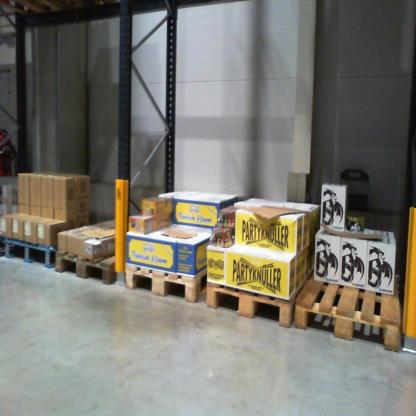pallet: (208, 246, 338, 329), (297, 251, 401, 352), (122, 250, 241, 303), (51, 231, 149, 286), (1, 230, 62, 276)
